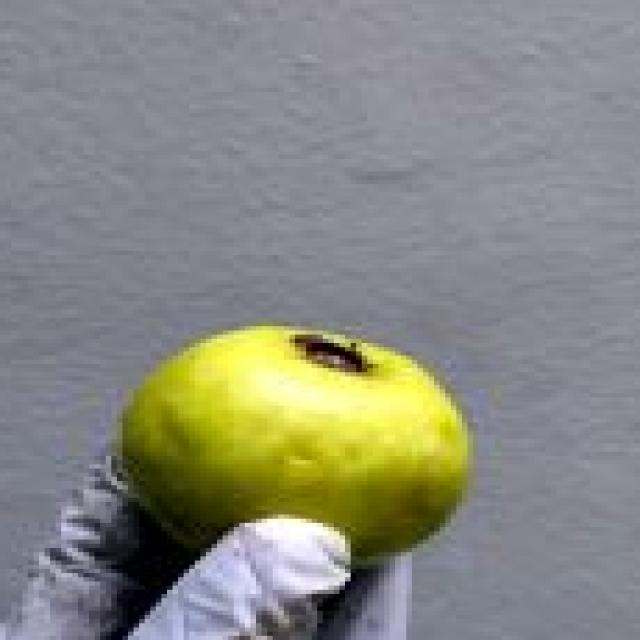Good_Guava 5-7 days: (111, 326, 467, 573)
